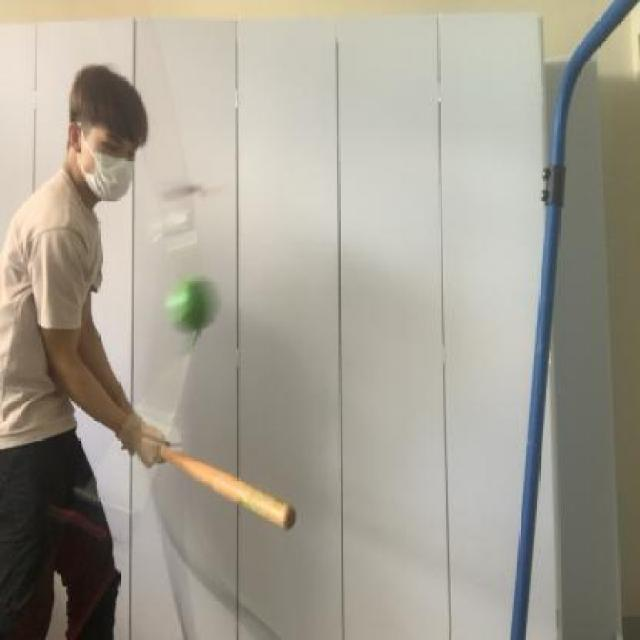baseball: (164, 273, 224, 341)
